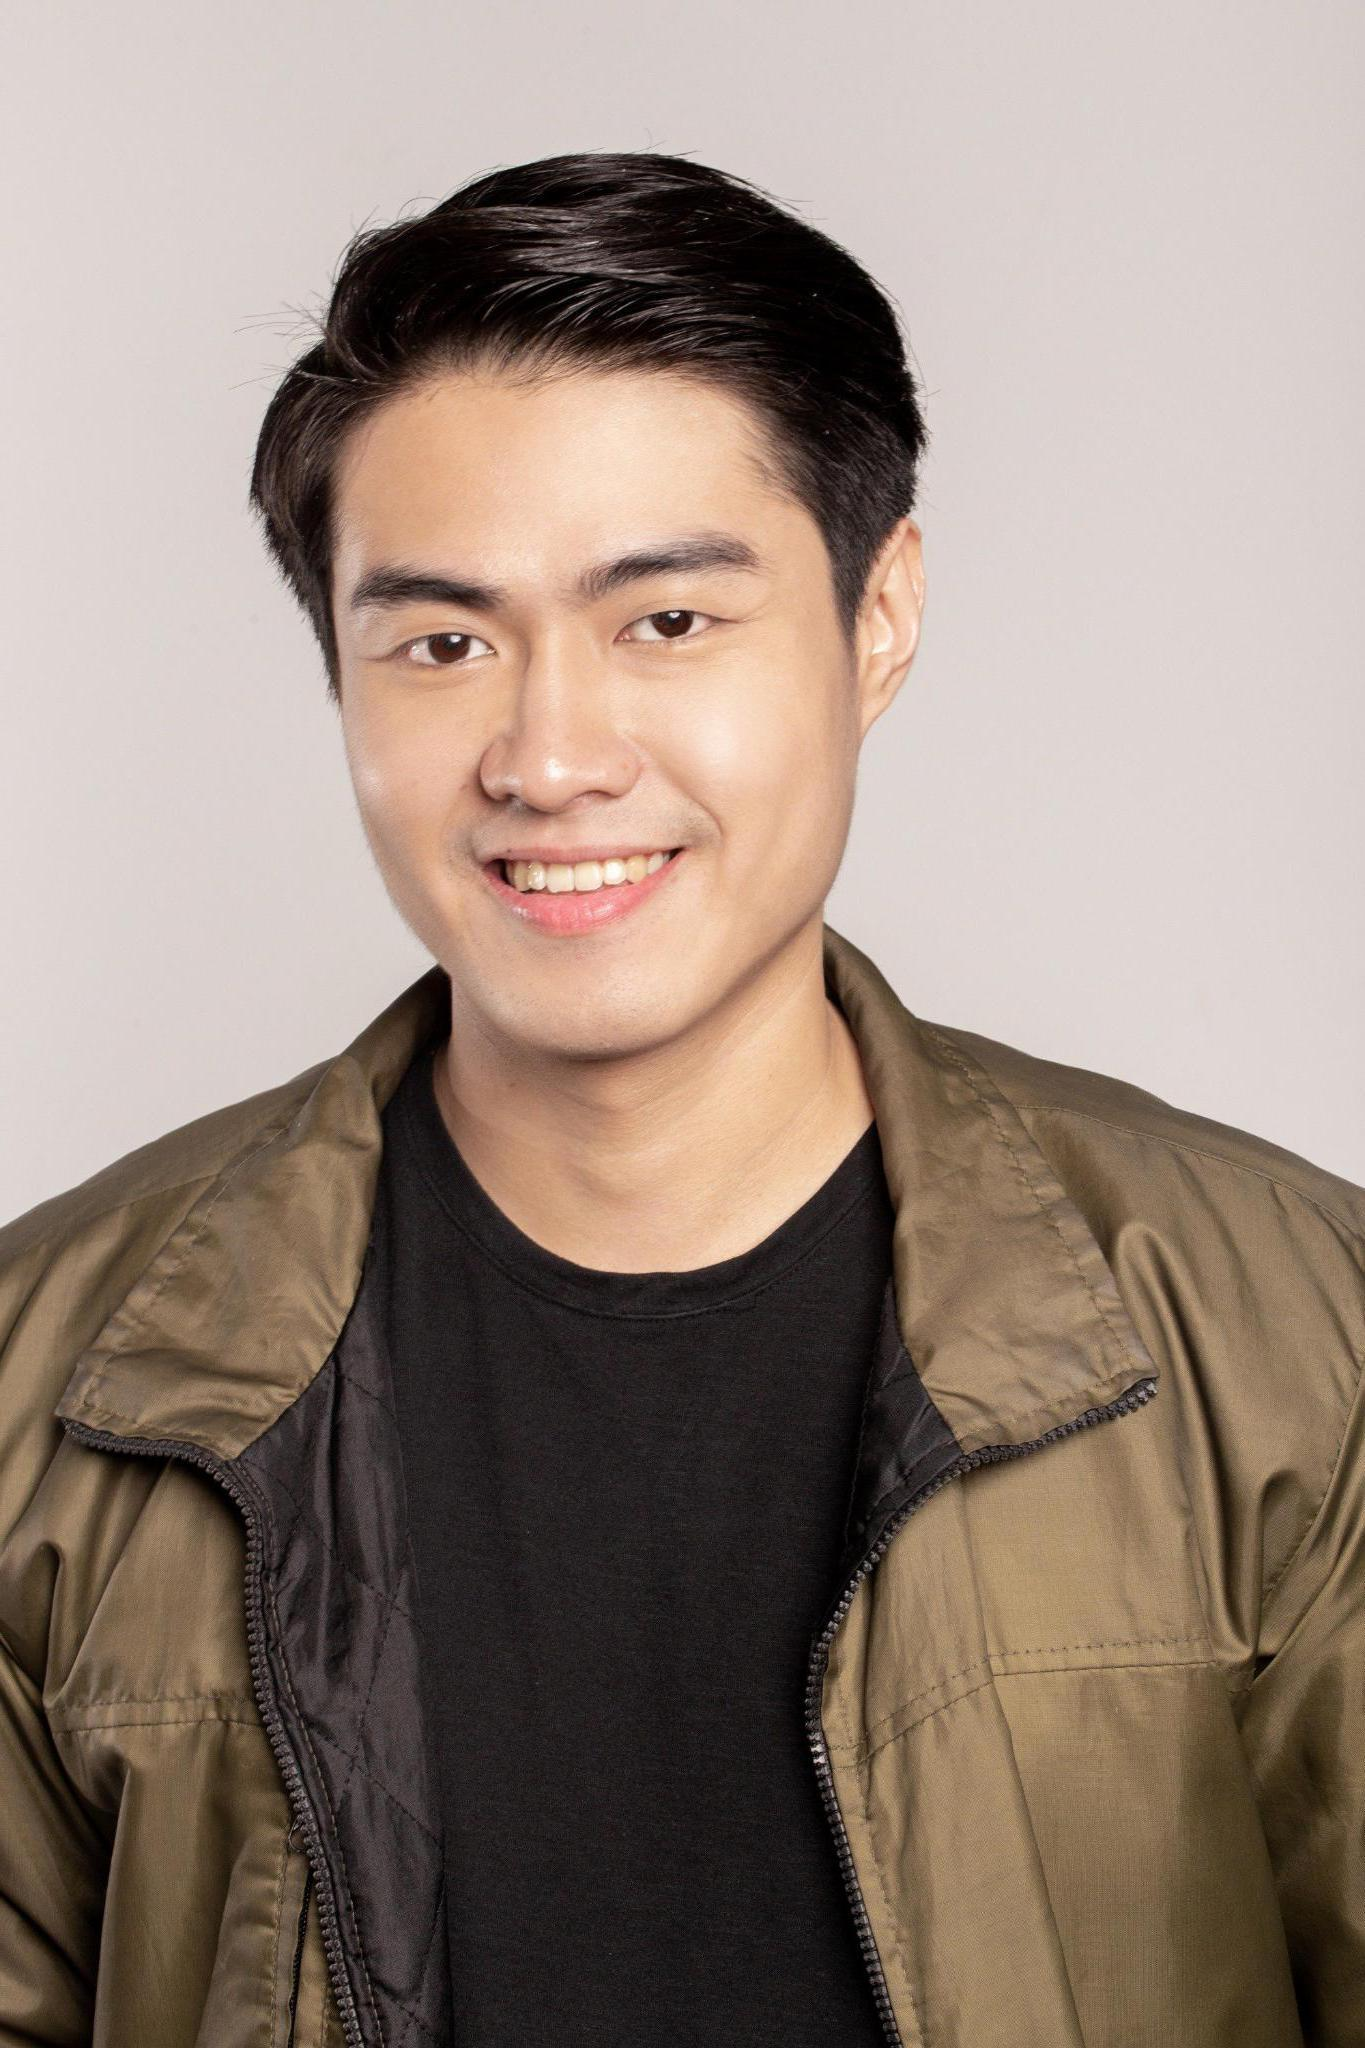Sober: (352, 361, 835, 1058)
